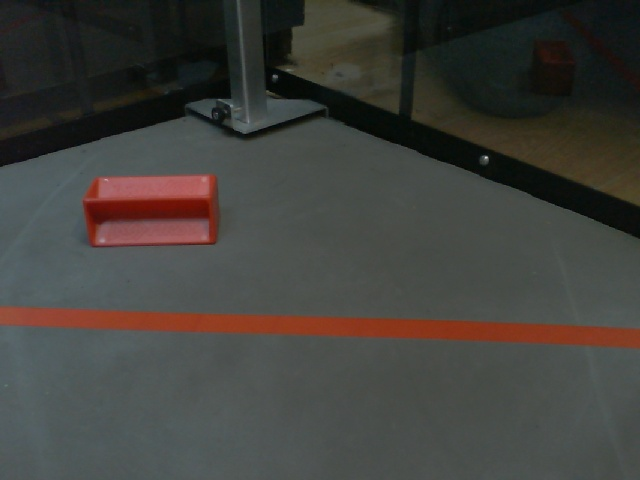RedSample: (83, 169, 225, 251)
